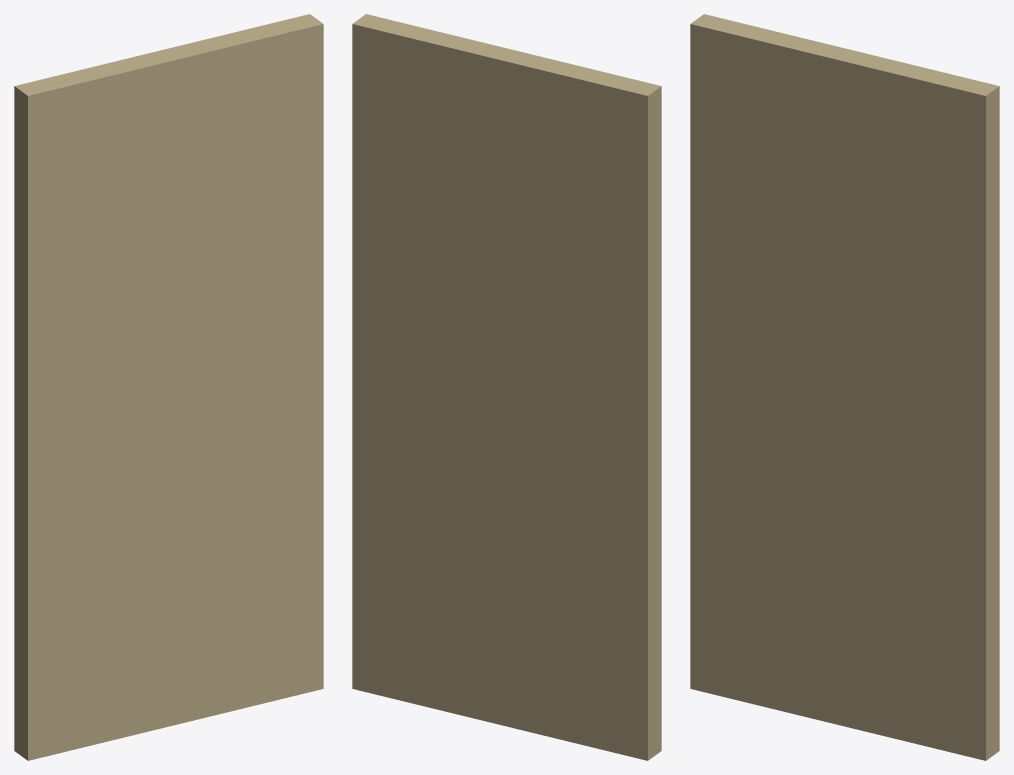
3 renders of one model, left to right at view 1: azimuth 30°, elevation 25°; view 2: azimuth 150°, elevation 25°; view 3: azimuth 330°, elevation 25°, orthographic.
Visible parts, largest first — view 1: GF-W121; view 2: GF-W121; view 3: GF-W121.
Part boxes in pixels (x1,y1,x2,y2): GF-W121: (14, 14, 323, 760); GF-W121: (352, 14, 661, 760); GF-W121: (690, 14, 999, 760).
Bounding box in the file's own units: 1.13 × 2.42 × 0.09.
